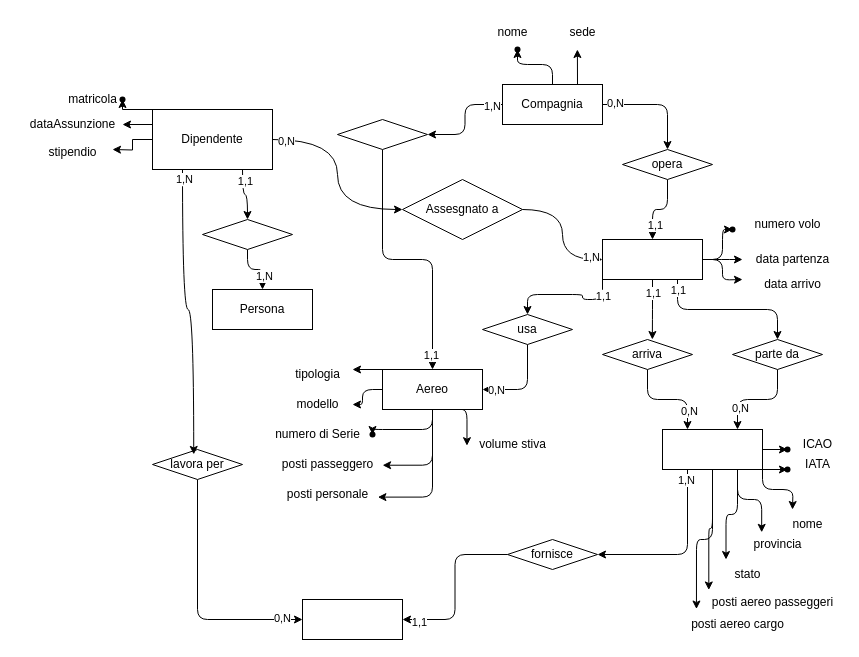
The diagram is 859 pixels wide and 657 high, and some of its shapes have lost their labels. Here are the shapes that lost their labels. From the top down, the centre of each, then its label:
At (x=382, y=134): "possiede".
At (x=247, y=234): "è una".
At (x=652, y=259): "Volo".
At (x=712, y=449): "Aeroporto".
At (x=352, y=619): "Servizio".
